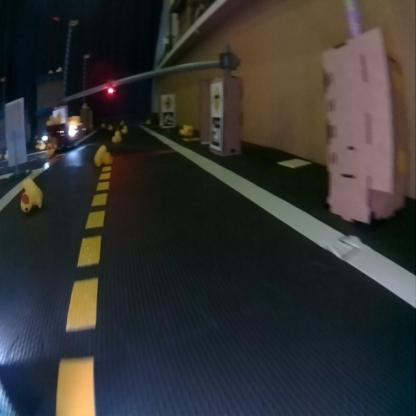Duckie: (20, 178, 42, 210), (94, 144, 111, 165), (111, 131, 121, 141), (46, 113, 54, 125), (184, 125, 192, 135), (179, 124, 185, 134), (122, 126, 127, 132)
Duckiebot: (46, 121, 85, 146)
Intersection sign: (211, 83, 223, 110), (161, 94, 172, 108)
QR code: (210, 117, 221, 148), (162, 112, 173, 126)
Traffic light: (107, 82, 115, 94)
